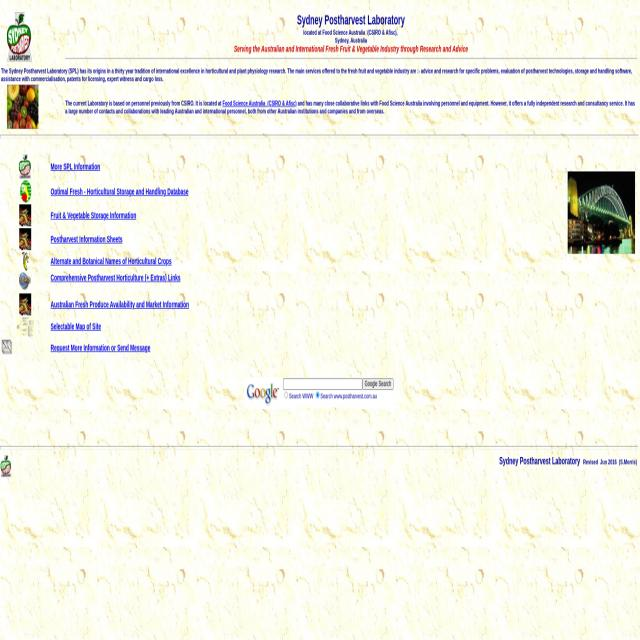button: (7, 84, 38, 128), (6, 12, 32, 62), (244, 378, 282, 407), (362, 378, 393, 390), (16, 317, 34, 336), (19, 154, 31, 179), (19, 180, 31, 202), (19, 204, 31, 226), (19, 228, 31, 250), (19, 294, 31, 316), (19, 273, 31, 292), (1, 455, 11, 477), (1, 338, 13, 356), (22, 251, 28, 271)
field: (283, 378, 362, 390)
